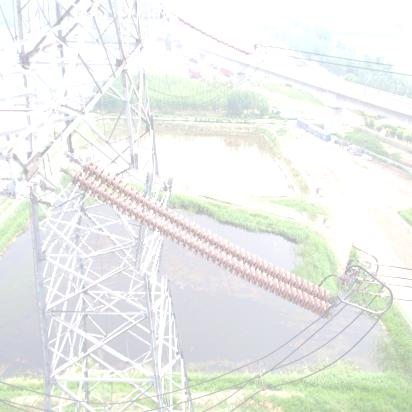insulator: (45, 169, 355, 305), (169, 17, 258, 53)
